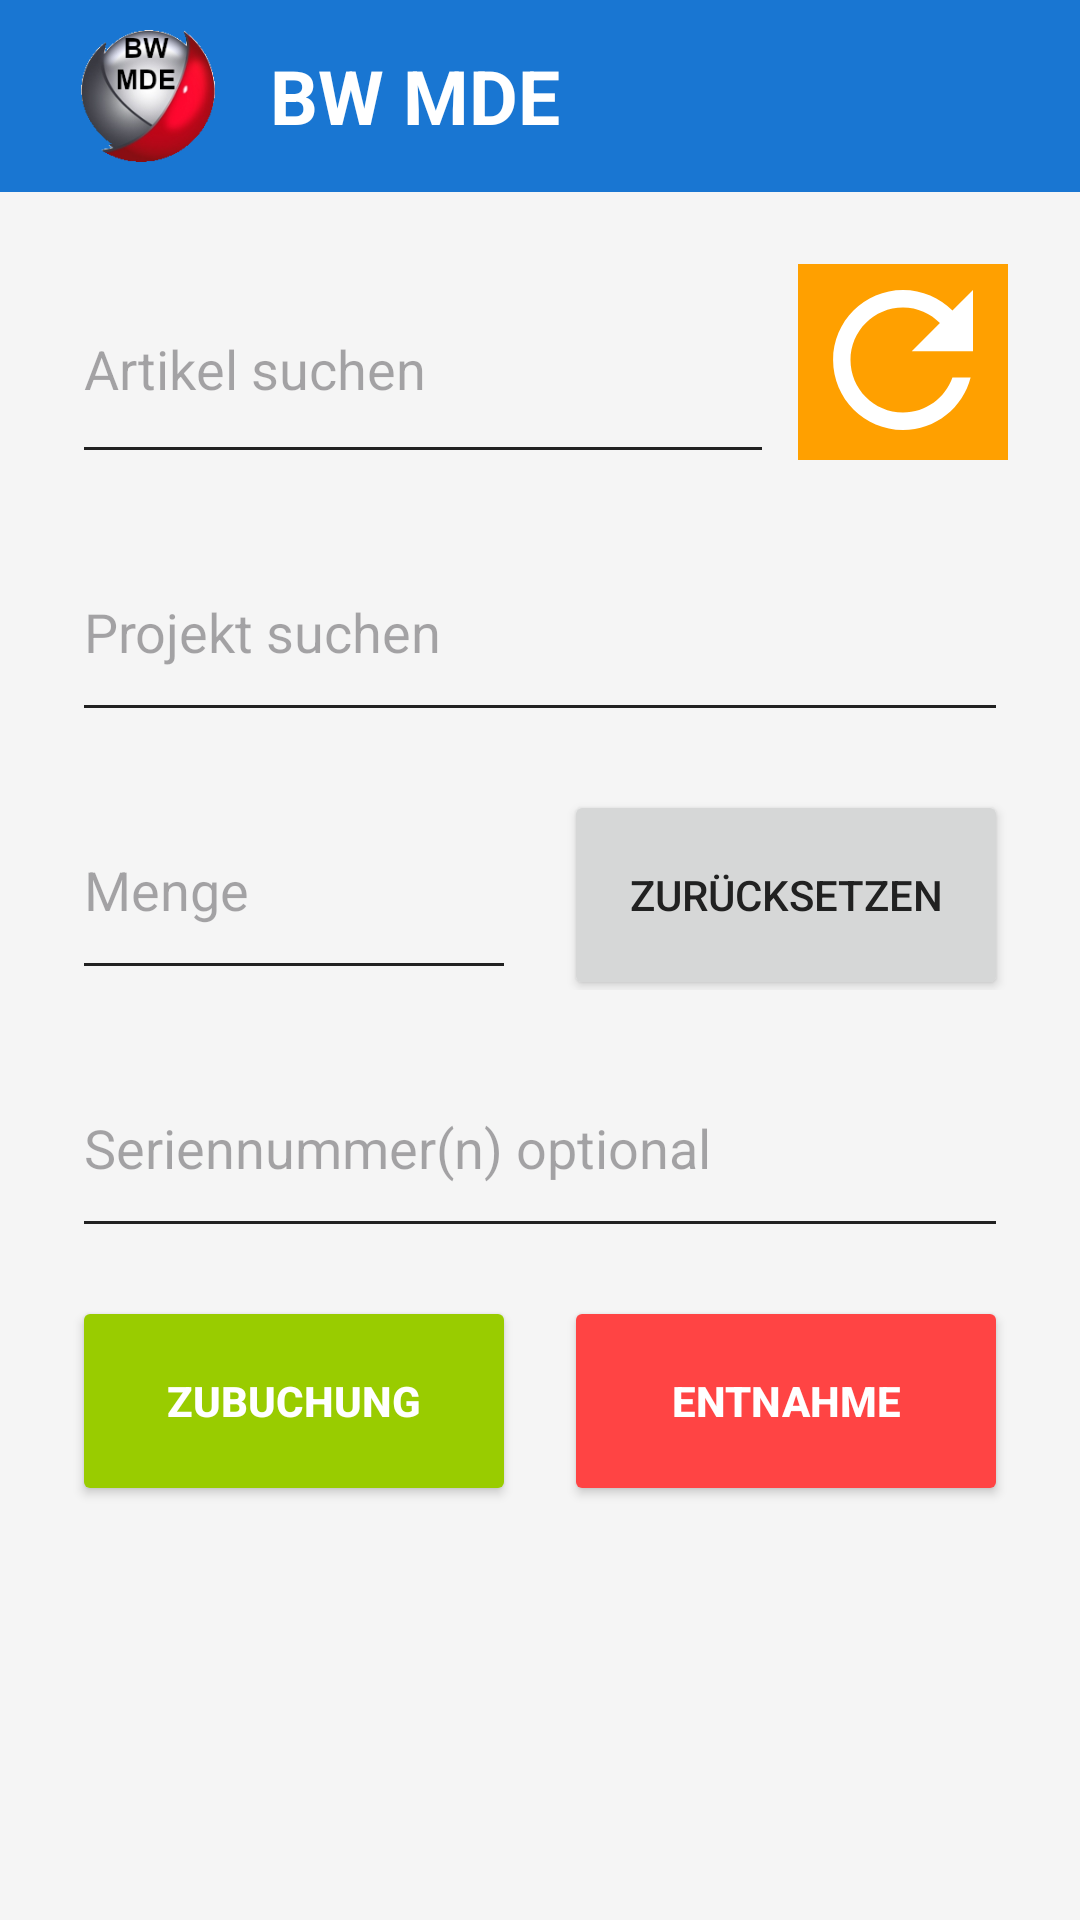

Icon bounding boxes for this 1080×1920 phone screenshot, format {"x1": x1, "y1": y1, "x2": x2, "y2": y2}:
Neu laden: {"x1": 798, "y1": 264, "x2": 1008, "y2": 460}
